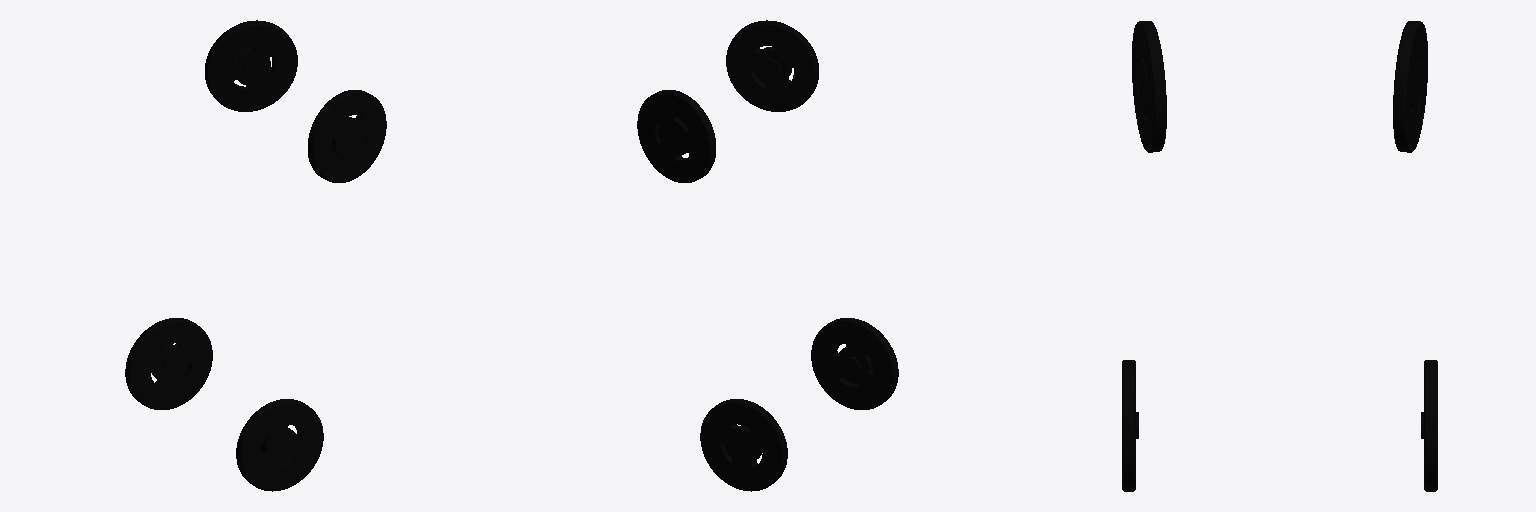
URDF robot description (quadruped_robot):
<?xml version="1.0" ?>
<!-- =================================================================================== -->
<!-- |    This document was autogenerated by xacro from quadruped_robot.xacro          | -->
<!-- |    EDITING THIS FILE BY HAND IS NOT RECOMMENDED                                 | -->
<!-- =================================================================================== -->
<robot name="quadruped_robot">
  <!-- =============== Link & Joint =============== -->
  <!-- Base -->
  <link name="robot1_base_footprint"/>
  <joint name="robot1_base_link_joint" type="fixed">
    <origin rpy="0 -1.57079637 0" xyz="0 0 0"/>
    <parent link="robot1_base_footprint"/>
    <child link="robot1_base_link"/>
  </joint>
  <link name="robot1_base_link">
    <visual>
      <geometry>
        <mesh filename="package://robot_description/meshes/DAE/body/body.dae"/>
      </geometry>
    </visual>
    <collision>
      <geometry>
        <mesh filename="package://robot_description/meshes/STL/body/body.stl"/>
      </geometry>
    </collision>
    <inertial>
      <origin xyz="0.01 0.0 0.09"/>
      <mass value="9.5"/>
      <inertia ixx="0.075" ixy="-0.0017" ixz="-0.0017" iyy="0.4" iyz="-0.0008" izz="0.43"/>
    </inertial>
    <surface>
      <friction>
        <ode>
          <mu1>1.2</mu1>
          <mu2>1.2</mu2>
          <kp>1e15</kp>
          <kd>1e13</kd>
        </ode>
      </friction>
      <bounce>
        <restitution_coefficient>0.01</restitution_coefficient>
        <threshold>0</threshold>
      </bounce>
      <contact>
        <ode>
          <max_vel>10</max_vel>
        </ode>
      </contact>
    </surface>
  </link>
  <joint name="robot1_rear_left_leg_joint" type="fixed">
    <origin rpy="0 1.57079637 -1.57079637" xyz="-0.277 0.06 0.089405"/>
    <parent link="robot1_base_link"/>
    <child link="robot1_rear_left_leg_joint_link"/>
    <limit effort="500" lower="-3.14159" upper="3.14159" velocity="10"/>
    <dynamics damping="0.005" friction="0.1"/>
    <axis xyz="0 -1 0"/>
  </joint>
  <link name="robot1_rear_left_leg_joint_link">
    <visual>
      <geometry>
        <mesh filename="package://robot_description/meshes/DAE/leg_joint/leg_joint.dae"/>
      </geometry>
    </visual>
    <collision>
      <geometry>
        <mesh filename="package://robot_description/meshes/STL/leg_joint/leg_joint.stl"/>
      </geometry>
    </collision>
    <inertial>
      <origin xyz="0 0 -0.038"/>
      <mass value="1.16"/>
      <inertia ixx="0.002" ixy="0" ixz="0" iyy="0.002" iyz="0" izz="0.001"/>
    </inertial>
  </link>
  <joint name="robot1_rear_right_leg_joint" type="fixed">
    <origin rpy="0 -1.57079637 -1.57079637" xyz="-0.277 -0.06 0.089405"/>
    <parent link="robot1_base_link"/>
    <child link="robot1_rear_right_leg_joint_link"/>
    <limit effort="500" lower="-3.14159" upper="3.14159" velocity="10"/>
    <dynamics damping="0.005" friction="0.1"/>
    <axis xyz="0 1 0"/>
  </joint>
  <link name="robot1_rear_right_leg_joint_link">
    <visual>
      <geometry>
        <mesh filename="package://robot_description/meshes/DAE/leg_joint/leg_joint.dae"/>
      </geometry>
    </visual>
    <collision>
      <geometry>
        <mesh filename="package://robot_description/meshes/STL/leg_joint/leg_joint.stl"/>
      </geometry>
    </collision>
    <inertial>
      <origin xyz="0 0 -0.038"/>
      <mass value="1.16"/>
      <inertia ixx="0.002" ixy="0" ixz="0" iyy="0.002" iyz="0" izz="0.001"/>
    </inertial>
  </link>
  <joint name="robot1_front_left_leg_joint" type="fixed">
    <origin rpy="0 1.39626344 -1.57079637" xyz="0.282 0.06 0.090255"/>
    <parent link="robot1_base_link"/>
    <child link="robot1_front_left_leg_joint_link"/>
    <limit effort="500" lower="-3.14159" upper="3.14159" velocity="10"/>
    <dynamics damping="0.005" friction="0.1"/>
    <axis xyz="0 -1 0"/>
  </joint>
  <link name="robot1_front_left_leg_joint_link">
    <visual>
      <geometry>
        <mesh filename="package://robot_description/meshes/DAE/leg_joint/leg_joint.dae"/>
      </geometry>
    </visual>
    <collision>
      <geometry>
        <mesh filename="package://robot_description/meshes/STL/leg_joint/leg_joint.stl"/>
      </geometry>
    </collision>
    <inertial>
      <origin xyz="0 0 -0.038"/>
      <mass value="1.16"/>
      <inertia ixx="0.002" ixy="0" ixz="0" iyy="0.002" iyz="0" izz="0.001"/>
    </inertial>
  </link>
  <joint name="robot1_front_right_leg_joint" type="fixed">
    <origin rpy="0 -1.39626344 -1.57079637" xyz="0.282 -0.06 0.090255"/>
    <parent link="robot1_base_link"/>
    <child link="robot1_front_right_leg_joint_link"/>
    <limit effort="500" lower="-3.14159" upper="3.14159" velocity="10"/>
    <dynamics damping="0.005" friction="0.1"/>
    <axis xyz="0 1 0"/>
  </joint>
  <link name="robot1_front_right_leg_joint_link">
    <visual>
      <geometry>
        <mesh filename="package://robot_description/meshes/DAE/leg_joint/leg_joint.dae"/>
      </geometry>
    </visual>
    <collision>
      <geometry>
        <mesh filename="package://robot_description/meshes/STL/leg_joint/leg_joint.stl"/>
      </geometry>
    </collision>
    <inertial>
      <origin xyz="0 0 -0.038"/>
      <mass value="1.16"/>
      <inertia ixx="0.002" ixy="0" ixz="0" iyy="0.002" iyz="0" izz="0.001"/>
    </inertial>
  </link>
  <joint name="robot1_front_left_thigh_joint" type="revolute">
    <origin rpy="1.57079637 0 -2.007128695" xyz="0 0 -0.114"/>
    <parent link="robot1_front_left_leg_joint_link"/>
    <child link="robot1_front_left_thigh_link"/>
    <limit effort="500" lower="-0.785" upper="0.785" velocity="10"/>
    <dynamics damping="0.005" friction="0.1"/>
    <axis xyz="0 1 0"/>
  </joint>
  <link name="robot1_front_left_thigh_link">
    <visual>
      <geometry>
        <mesh filename="package://robot_description/meshes/DAE/left_thigh/left_thigh.dae"/>
      </geometry>
    </visual>
    <collision>
      <geometry>
        <mesh filename="package://robot_description/meshes/STL/left_thigh/left_thigh.stl"/>
      </geometry>
    </collision>
    <inertial>
      <origin xyz="0.17 -0.028 0.014"/>
      <mass value="1.24"/>
      <inertia ixx="0.002" ixy="0" ixz="0" iyy="0.002" iyz="0" izz="0.001"/>
      <!-- inertia ixx="-0.5" ixy="0.003" ixz="0.145" iyy="-0.496" iyz="-0.0096" izz="0.012" -->
    </inertial>
  </link>
  <joint name="robot1_rear_left_thigh_joint" type="fixed">
    <origin rpy="1.57079637 0 -2.356194555" xyz="0 0 -0.114"/>
    <parent link="robot1_rear_left_leg_joint_link"/>
    <child link="robot1_rear_left_thigh_link"/>
    <limit effort="500" lower="-3" upper="3" velocity="10"/>
    <dynamics damping="0.005" friction="0.1"/>
    <axis xyz="0 1 0"/>
  </joint>
  <link name="robot1_rear_left_thigh_link">
    <visual>
      <geometry>
        <mesh filename="package://robot_description/meshes/DAE/left_thigh/left_thigh.dae"/>
      </geometry>
    </visual>
    <collision>
      <geometry>
        <mesh filename="package://robot_description/meshes/STL/left_thigh/left_thigh.stl"/>
      </geometry>
    </collision>
    <inertial>
      <origin xyz="0.17 -0.028 0.014"/>
      <mass value="1.24"/>
      <inertia ixx="0.002" ixy="0" ixz="0" iyy="0.002" iyz="0" izz="0.001"/>
      <!-- inertia ixx="-0.5" ixy="0.003" ixz="0.145" iyy="-0.496" iyz="-0.0096" izz="0.012" -->
    </inertial>
  </link>
  <joint name="robot1_front_right_thigh_joint" type="revolute">
    <origin rpy="1.57079637 0 5.148721435" xyz="0 0 -0.114"/>
    <parent link="robot1_front_right_leg_joint_link"/>
    <child link="robot1_front_right_thigh_link"/>
    <limit effort="500" lower="-0.785" upper="0.785" velocity="10"/>
    <dynamics damping="0.005" friction="0.1"/>
    <axis xyz="0 -1 0"/>
  </joint>
  <link name="robot1_front_right_thigh_link">
    <visual>
      <geometry>
        <mesh filename="package://robot_description/meshes/DAE/right_thigh/right_thigh.dae"/>
      </geometry>
    </visual>
    <collision>
      <geometry>
        <mesh filename="package://robot_description/meshes/STL/right_thigh/right_thigh.stl"/>
      </geometry>
    </collision>
    <inertial>
      <origin xyz="0.17 -0.028 -0.014"/>
      <mass value="1.24"/>
      <inertia ixx="0.002" ixy="0" ixz="0" iyy="0.002" iyz="0" izz="0.001"/>
      <!--inertia ixx="-0.44" ixy="0.012" ixz="0.14" iyy="-0.423" iyz="0.0217" izz="0.0135" -->
    </inertial>
  </link>
  <joint name="robot1_rear_right_thigh_joint" type="fixed">
    <origin rpy="1.57079637 0 5.497787295" xyz="0 0 -0.114"/>
    <parent link="robot1_rear_right_leg_joint_link"/>
    <child link="robot1_rear_right_thigh_link"/>
    <limit effort="500" lower="-3" upper="3" velocity="10"/>
    <dynamics damping="0.005" friction="0.1"/>
    <axis xyz="0 -1 0"/>
  </joint>
  <link name="robot1_rear_right_thigh_link">
    <visual>
      <geometry>
        <mesh filename="package://robot_description/meshes/DAE/right_thigh/right_thigh.dae"/>
      </geometry>
    </visual>
    <collision>
      <geometry>
        <mesh filename="package://robot_description/meshes/STL/right_thigh/right_thigh.stl"/>
      </geometry>
    </collision>
    <inertial>
      <origin xyz="0.17 -0.028 -0.014"/>
      <mass value="1.24"/>
      <inertia ixx="0.002" ixy="0" ixz="0" iyy="0.002" iyz="0" izz="0.001"/>
      <!--inertia ixx="-0.44" ixy="0.012" ixz="0.14" iyy="-0.423" iyz="0.0217" izz="0.0135" -->
    </inertial>
  </link>
  <joint name="robot1_front_left_shin_joint" type="fixed">
    <origin rpy="0 -1.04719758 0" xyz="0.426 -0.0285 0"/>
    <parent link="robot1_front_left_thigh_link"/>
    <child link="robot1_front_left_shin_link"/>
    <limit effort="500" lower="-3.14159" upper="3.14159" velocity="10"/>
    <dynamics damping="0.005" friction="0.1"/>
    <axis xyz="0 1 0"/>
  </joint>
  <link name="robot1_front_left_shin_link">
    <visual>
      <geometry>
        <mesh filename="package://robot_description/meshes/DAE/shin/shin.dae"/>
      </geometry>
    </visual>
    <collision>
      <geometry>
        <mesh filename="package://robot_description/meshes/STL/shin/shin.stl"/>
      </geometry>
    </collision>
    <inertial>
      <origin xyz="-0.158 0.011 0.0"/>
      <mass value="0.66"/>
      <inertia ixx="0.0003" ixy="0.0013" ixz="0.000045" iyy="0.029" iyz="-0.000003" izz="0.029"/>
    </inertial>
    <surface>
      <friction>
        <ode>
          <mu1>1.2</mu1>
          <mu2>1.2</mu2>
          <kp>1e15</kp>
          <kd>1e13</kd>
        </ode>
      </friction>
      <bounce>
        <restitution_coefficient>0.01</restitution_coefficient>
        <threshold>0</threshold>
      </bounce>
      <contact>
        <ode>
          <max_vel>10</max_vel>
        </ode>
      </contact>
    </surface>
  </link>
  <joint name="robot1_front_right_shin_joint" type="fixed">
    <origin rpy="3.14159274 1.04719758 0" xyz="0.426 -0.0285 0"/>
    <parent link="robot1_front_right_thigh_link"/>
    <child link="robot1_front_right_shin_link"/>
    <limit effort="500" lower="-3.14159" upper="3.14159" velocity="10"/>
    <dynamics damping="0.005" friction="0.1"/>
    <axis xyz="0 1 0"/>
  </joint>
  <link name="robot1_front_right_shin_link">
    <visual>
      <geometry>
        <mesh filename="package://robot_description/meshes/DAE/shin/shin.dae"/>
      </geometry>
    </visual>
    <collision>
      <geometry>
        <mesh filename="package://robot_description/meshes/STL/shin/shin.stl"/>
      </geometry>
    </collision>
    <inertial>
      <origin xyz="-0.158 0.011 0.0"/>
      <mass value="0.66"/>
      <inertia ixx="0.0003" ixy="0.0013" ixz="0.000045" iyy="0.029" iyz="-0.000003" izz="0.029"/>
    </inertial>
    <surface>
      <friction>
        <ode>
          <mu1>1.2</mu1>
          <mu2>1.2</mu2>
          <kp>1e15</kp>
          <kd>1e13</kd>
        </ode>
      </friction>
      <bounce>
        <restitution_coefficient>0.01</restitution_coefficient>
        <threshold>0</threshold>
      </bounce>
      <contact>
        <ode>
          <max_vel>10</max_vel>
        </ode>
      </contact>
    </surface>
  </link>
  <joint name="robot1_rear_left_shin_joint" type="fixed">
    <origin rpy="0 -1.2217305100000002 0" xyz="0.426 -0.0285 0"/>
    <parent link="robot1_rear_left_thigh_link"/>
    <child link="robot1_rear_left_shin_link"/>
    <limit effort="500" lower="-3.14159" upper="3.14159" velocity="10"/>
    <dynamics damping="0.005" friction="0.1"/>
    <axis xyz="0 1 0"/>
  </joint>
  <link name="robot1_rear_left_shin_link">
    <visual>
      <geometry>
        <mesh filename="package://robot_description/meshes/DAE/shin/shin.dae"/>
      </geometry>
    </visual>
    <collision>
      <geometry>
        <mesh filename="package://robot_description/meshes/STL/shin/shin.stl"/>
      </geometry>
    </collision>
    <inertial>
      <origin xyz="-0.158 0.011 0.0"/>
      <mass value="0.66"/>
      <inertia ixx="0.0003" ixy="0.0013" ixz="0.000045" iyy="0.029" iyz="-0.000003" izz="0.029"/>
    </inertial>
    <surface>
      <friction>
        <ode>
          <mu1>1.2</mu1>
          <mu2>1.2</mu2>
          <kp>1e15</kp>
          <kd>1e13</kd>
        </ode>
      </friction>
      <bounce>
        <restitution_coefficient>0.01</restitution_coefficient>
        <threshold>0</threshold>
      </bounce>
      <contact>
        <ode>
          <max_vel>10</max_vel>
        </ode>
      </contact>
    </surface>
  </link>
  <joint name="robot1_rear_right_shin_joint" type="fixed">
    <origin rpy="3.14159274 1.2217305100000002 0" xyz="0.426 -0.0285 0"/>
    <parent link="robot1_rear_right_thigh_link"/>
    <child link="robot1_rear_right_shin_link"/>
    <limit effort="500" lower="-3.14159" upper="3.14159" velocity="10"/>
    <dynamics damping="0.005" friction="0.1"/>
    <axis xyz="0 1 0"/>
  </joint>
  <link name="robot1_rear_right_shin_link">
    <visual>
      <geometry>
        <mesh filename="package://robot_description/meshes/DAE/shin/shin.dae"/>
      </geometry>
    </visual>
    <collision>
      <geometry>
        <mesh filename="package://robot_description/meshes/STL/shin/shin.stl"/>
      </geometry>
    </collision>
    <inertial>
      <origin xyz="-0.158 0.011 0.0"/>
      <mass value="0.66"/>
      <inertia ixx="0.0003" ixy="0.0013" ixz="0.000045" iyy="0.029" iyz="-0.000003" izz="0.029"/>
    </inertial>
    <surface>
      <friction>
        <ode>
          <mu1>1.2</mu1>
          <mu2>1.2</mu2>
          <kp>1e15</kp>
          <kd>1e13</kd>
        </ode>
      </friction>
      <bounce>
        <restitution_coefficient>0.01</restitution_coefficient>
        <threshold>0</threshold>
      </bounce>
      <contact>
        <ode>
          <max_vel>10</max_vel>
        </ode>
      </contact>
    </surface>
  </link>
  <joint name="robot1_fr_wheel_joint" type="fixed">
    <origin rpy="0 0 0" xyz="-0.345 0.0165 0.0"/>
    <parent link="robot1_front_right_shin_link"/>
    <child link="robot1_fr_wheel_link"/>
    <limit effort="100" velocity="100"/>
    <axis xyz="0 -1 0"/>
  </joint>
  <link name="robot1_fr_wheel_link">
    <visual>
      <geometry>
        <mesh filename="package://robot_description/meshes/DAE/wheel/wheel.dae"/>
      </geometry>
    </visual>
    <collision>
      <geometry>
        <mesh filename="package://robot_description/meshes/STL/wheel/wheel.stl"/>
      </geometry>
    </collision>
    <inertial>
      <origin xyz="0.0 0.01 0.0"/>
      <mass value="0.64"/>
      <inertia ixx="0.001647" ixy="0" ixz="0" iyy="0.00325" iyz="0" izz="0.001647"/>
    </inertial>
    <surface>
      <friction>
        <ode>
          <mu1>1.2</mu1>
          <mu2>1.2</mu2>
          <kp>1e15</kp>
          <kd>1e13</kd>
        </ode>
      </friction>
      <bounce>
        <restitution_coefficient>0.01</restitution_coefficient>
        <threshold>0</threshold>
      </bounce>
      <contact>
        <ode>
          <max_vel>10</max_vel>
        </ode>
      </contact>
    </surface>
  </link>
  <joint name="robot1_fl_wheel_joint" type="fixed">
    <origin rpy="0 0 3.14159274" xyz="-0.345 -0.0165 0.0"/>
    <parent link="robot1_front_left_shin_link"/>
    <child link="robot1_fl_wheel_link"/>
    <limit effort="100" velocity="100"/>
    <axis xyz="0 1 0"/>
  </joint>
  <link name="robot1_fl_wheel_link">
    <visual>
      <geometry>
        <mesh filename="package://robot_description/meshes/DAE/wheel/wheel.dae"/>
      </geometry>
    </visual>
    <collision>
      <geometry>
        <mesh filename="package://robot_description/meshes/STL/wheel/wheel.stl"/>
      </geometry>
    </collision>
    <inertial>
      <origin xyz="0.0 0.01 0.0"/>
      <mass value="0.64"/>
      <inertia ixx="0.001647" ixy="0" ixz="0" iyy="0.00325" iyz="0" izz="0.001647"/>
    </inertial>
    <surface>
      <friction>
        <ode>
          <mu1>1.2</mu1>
          <mu2>1.2</mu2>
          <kp>1e15</kp>
          <kd>1e13</kd>
        </ode>
      </friction>
      <bounce>
        <restitution_coefficient>0.01</restitution_coefficient>
        <threshold>0</threshold>
      </bounce>
      <contact>
        <ode>
          <max_vel>10</max_vel>
        </ode>
      </contact>
    </surface>
  </link>
  <joint name="robot1_rl_wheel_joint" type="continuous">
    <origin rpy="0 0 3.14159274" xyz="-0.345 -0.0165 0.0"/>
    <parent link="robot1_rear_left_shin_link"/>
    <child link="robot1_rl_wheel_link"/>
    <limit effort="100" velocity="100"/>
    <axis xyz="0 1 0"/>
  </joint>
  <link name="robot1_rl_wheel_link">
    <visual>
      <geometry>
        <mesh filename="package://robot_description/meshes/DAE/wheel/wheel.dae"/>
      </geometry>
    </visual>
    <collision>
      <geometry>
        <mesh filename="package://robot_description/meshes/STL/wheel/wheel.stl"/>
      </geometry>
    </collision>
    <inertial>
      <origin xyz="0.0 0.01 0.0"/>
      <mass value="0.64"/>
      <inertia ixx="0.001647" ixy="0" ixz="0" iyy="0.00325" iyz="0" izz="0.001647"/>
    </inertial>
    <surface>
      <friction>
        <ode>
          <mu1>1.2</mu1>
          <mu2>1.2</mu2>
          <kp>1e15</kp>
          <kd>1e13</kd>
        </ode>
      </friction>
      <bounce>
        <restitution_coefficient>0.01</restitution_coefficient>
        <threshold>0</threshold>
      </bounce>
      <contact>
        <ode>
          <max_vel>10</max_vel>
        </ode>
      </contact>
    </surface>
  </link>
  <joint name="robot1_rr_wheel_joint" type="continuous">
    <origin rpy="0 0 0" xyz="-0.345 0.0165 0.0"/>
    <parent link="robot1_rear_right_shin_link"/>
    <child link="robot1_rr_wheel_link"/>
    <limit effort="100" velocity="100"/>
    <axis xyz="0 -1 0"/>
  </joint>
  <link name="robot1_rr_wheel_link">
    <visual>
      <geometry>
        <mesh filename="package://robot_description/meshes/DAE/wheel/wheel.dae"/>
      </geometry>
    </visual>
    <collision>
      <geometry>
        <mesh filename="package://robot_description/meshes/STL/wheel/wheel.stl"/>
      </geometry>
    </collision>
    <inertial>
      <origin xyz="0.0 0.01 0.0"/>
      <mass value="0.64"/>
      <inertia ixx="0.001647" ixy="0" ixz="0" iyy="0.00325" iyz="0" izz="0.001647"/>
    </inertial>
    <surface>
      <friction>
        <ode>
          <mu1>1.2</mu1>
          <mu2>1.2</mu2>
          <kp>1e15</kp>
          <kd>1e13</kd>
        </ode>
      </friction>
      <bounce>
        <restitution_coefficient>0.01</restitution_coefficient>
        <threshold>0</threshold>
      </bounce>
      <contact>
        <ode>
          <max_vel>10</max_vel>
        </ode>
      </contact>
    </surface>
  </link>
</robot>

--- Render facts (derived) ---
3 views of the same robot in one strip: view 1: azimuth 30°, elevation 25°; view 2: azimuth 150°, elevation 25°; view 3: azimuth 270°, elevation 25° (orthographic).
Robot: quadruped_robot — 18 links, 17 joints (2 revolute, 2 continuous, 13 fixed); root link robot1_base_footprint; default pose: every joint at zero.
Visible links, largest first — view 1: robot1_fl_wheel_link, robot1_rl_wheel_link, robot1_rr_wheel_link, robot1_fr_wheel_link; view 2: robot1_fr_wheel_link, robot1_rl_wheel_link, robot1_rr_wheel_link, robot1_fl_wheel_link; view 3: robot1_fr_wheel_link, robot1_fl_wheel_link, robot1_rl_wheel_link, robot1_rr_wheel_link.
Link boxes in pixels (x1,y1,x2,y2): robot1_fl_wheel_link: (205, 20, 297, 111); robot1_rl_wheel_link: (125, 318, 212, 409); robot1_rr_wheel_link: (236, 399, 323, 491); robot1_fr_wheel_link: (308, 90, 386, 182); robot1_fr_wheel_link: (726, 20, 818, 111); robot1_rl_wheel_link: (700, 399, 787, 491); robot1_rr_wheel_link: (811, 318, 898, 409); robot1_fl_wheel_link: (637, 90, 715, 182); robot1_fr_wheel_link: (1132, 21, 1166, 152); robot1_fl_wheel_link: (1393, 21, 1427, 152); robot1_rl_wheel_link: (1421, 360, 1437, 491); robot1_rr_wheel_link: (1122, 360, 1138, 491).
Size in the robot's own frame: 0.3779 by 0.478 by 0.85 metres.
4 mesh visuals loaded from 6 distinct referenced files (1 Collada DAE); not drawn: 13 (reference not matched to a file when rendering).